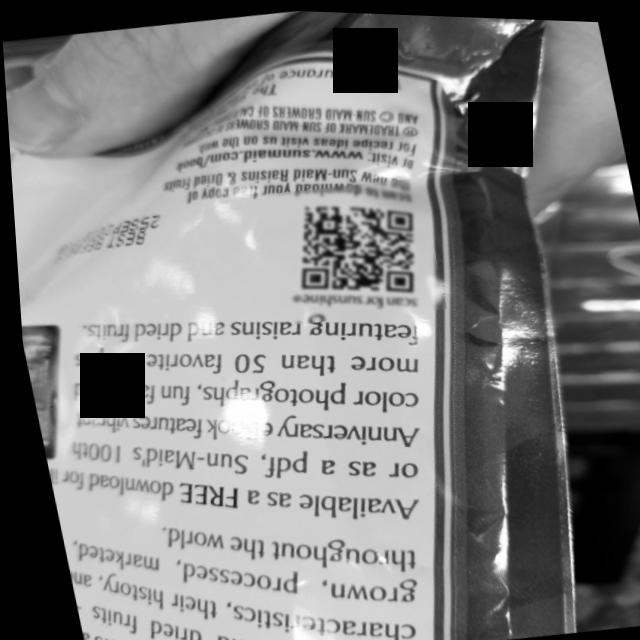QR_CODE: (263, 170, 444, 327)
